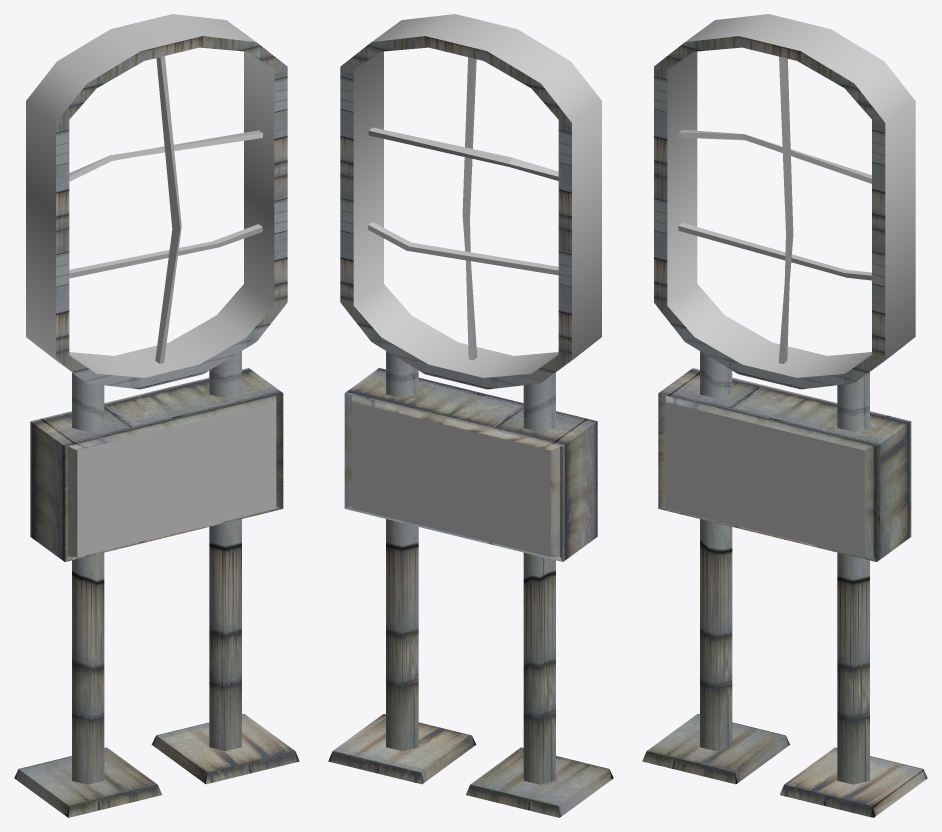
The model's file is Model_BillBoard_03.fbx.
3 renders of one model, left to right at view 1: azimuth 30°, elevation 25°; view 2: azimuth 150°, elevation 25°; view 3: azimuth 330°, elevation 25°, orthographic.
Parts seen in each view (by area): view 1: BillBoard_03; view 2: BillBoard_03; view 3: BillBoard_03.
Part boxes in pixels (left/top/right/bottom): BillBoard_03: left=14, top=14, right=299, bottom=817; BillBoard_03: left=328, top=14, right=613, bottom=817; BillBoard_03: left=642, top=14, right=927, bottom=817.
Bounding box in the file's own units: 193 × 597 × 78.37.
